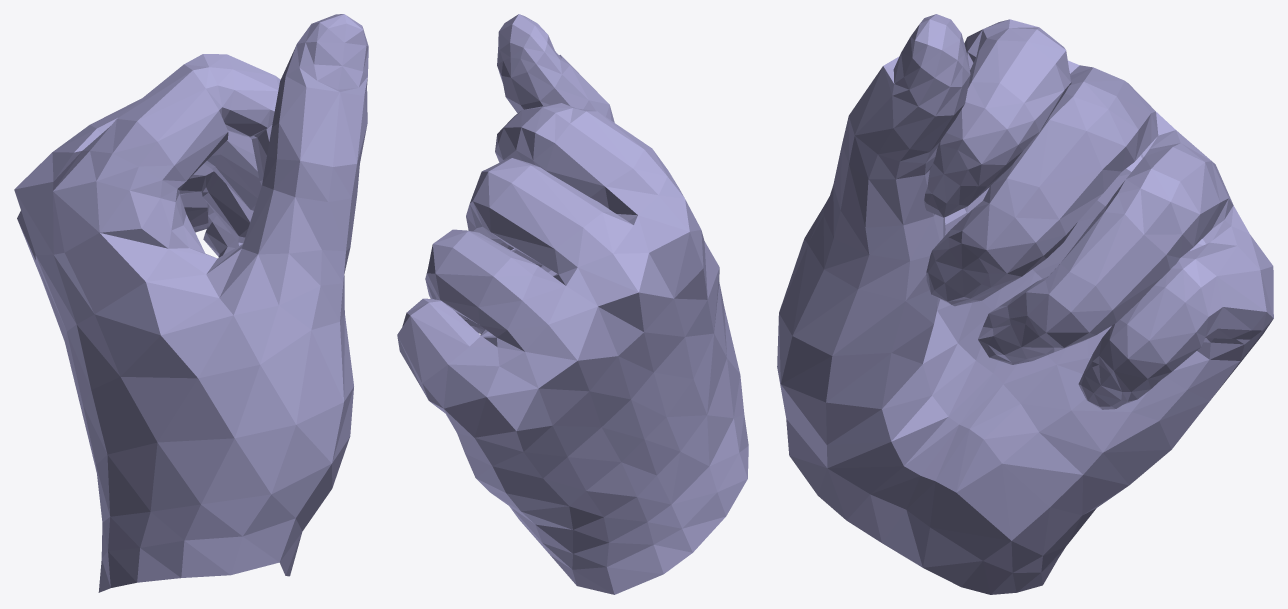
File: frame_0021_source_000021_hand.glb
3 renders of one model, left to right at view 1: azimuth 30°, elevation 25°; view 2: azimuth 150°, elevation 25°; view 3: azimuth 270°, elevation 25°, orthographic. The views are drawn at different scales.
Parts seen in each view (by area): view 1: world; view 2: world; view 3: world.
Boxes of the visible parts, left/top/right/bottom form: world: left=14, top=14, right=368, bottom=592; world: left=397, top=14, right=748, bottom=594; world: left=777, top=14, right=1273, bottom=594.
Bounding box in the file's own units: 0.0612 × 0.1267 × 0.0907.
